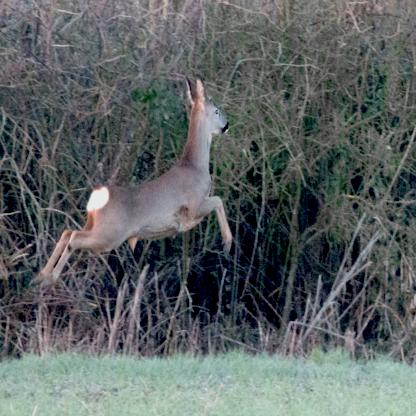Deer: (35, 70, 236, 289)
